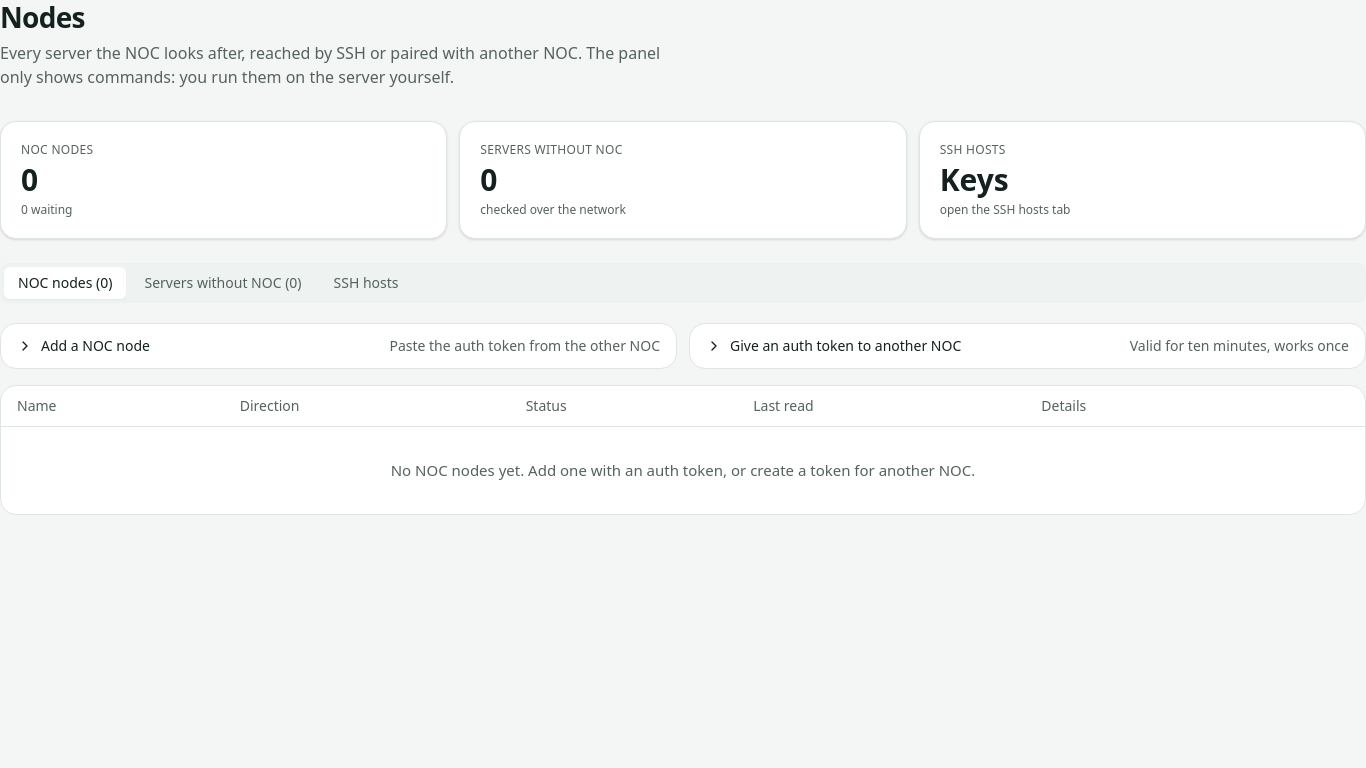
FleetPage › shows the cleanup commands after a revoke
The image size is (1366, 768).
Press the mouse on the tab "SSH hosts" at point(366, 283), box [320,267,413,299]
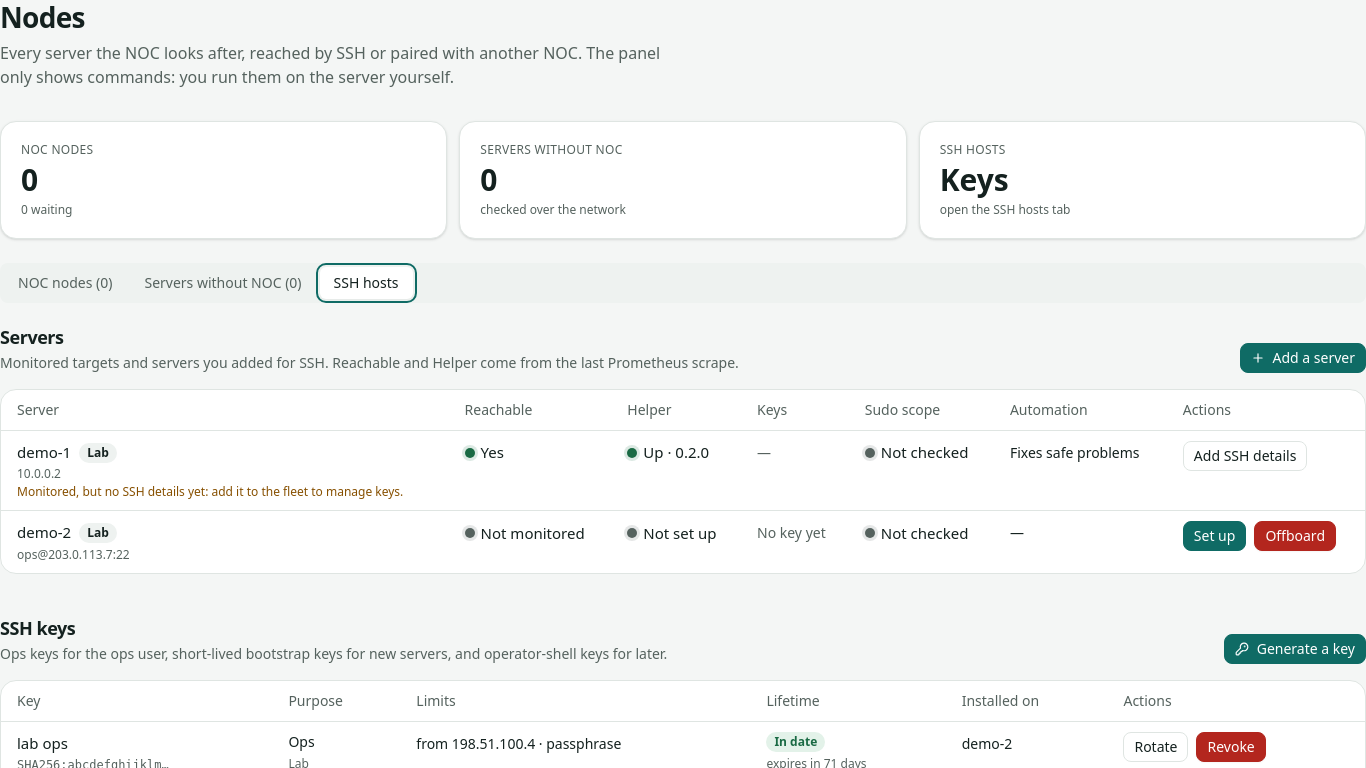
Click the button with aria-label "Revoke lab ops" at point(1231, 746), box [1196,732,1266,762]
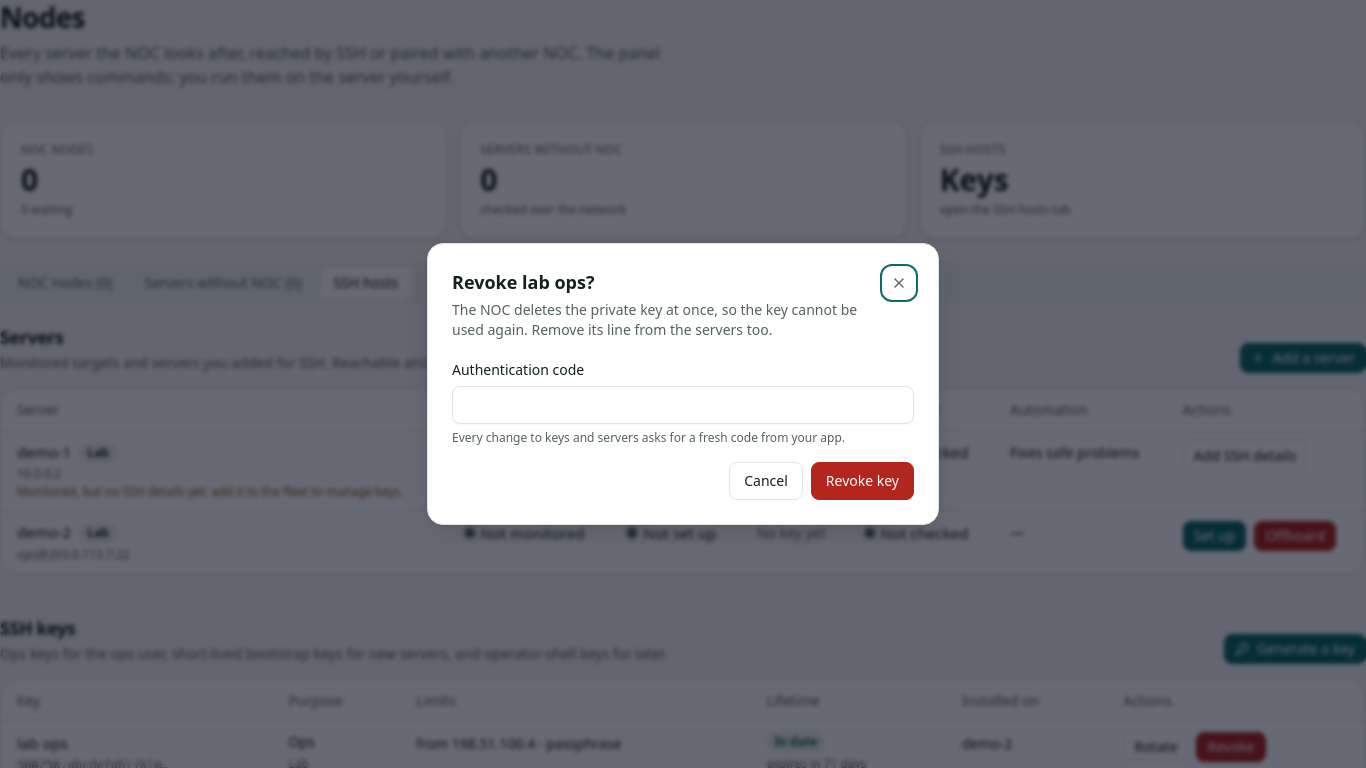
Type "654321" into the field labelled "Authentication code" at point(683, 405), box [452,386,914,424]
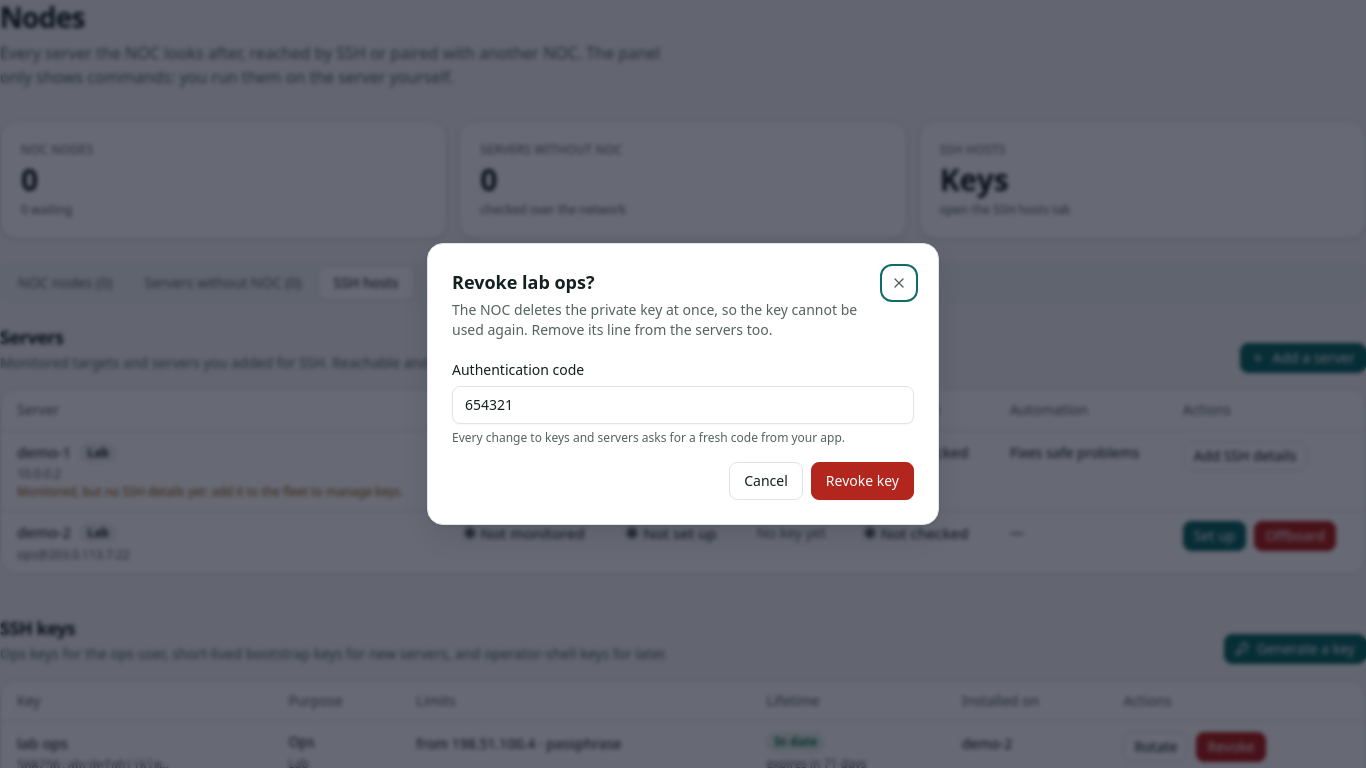
Click the button "Revoke key" at point(862, 481), box [811,462,914,500]
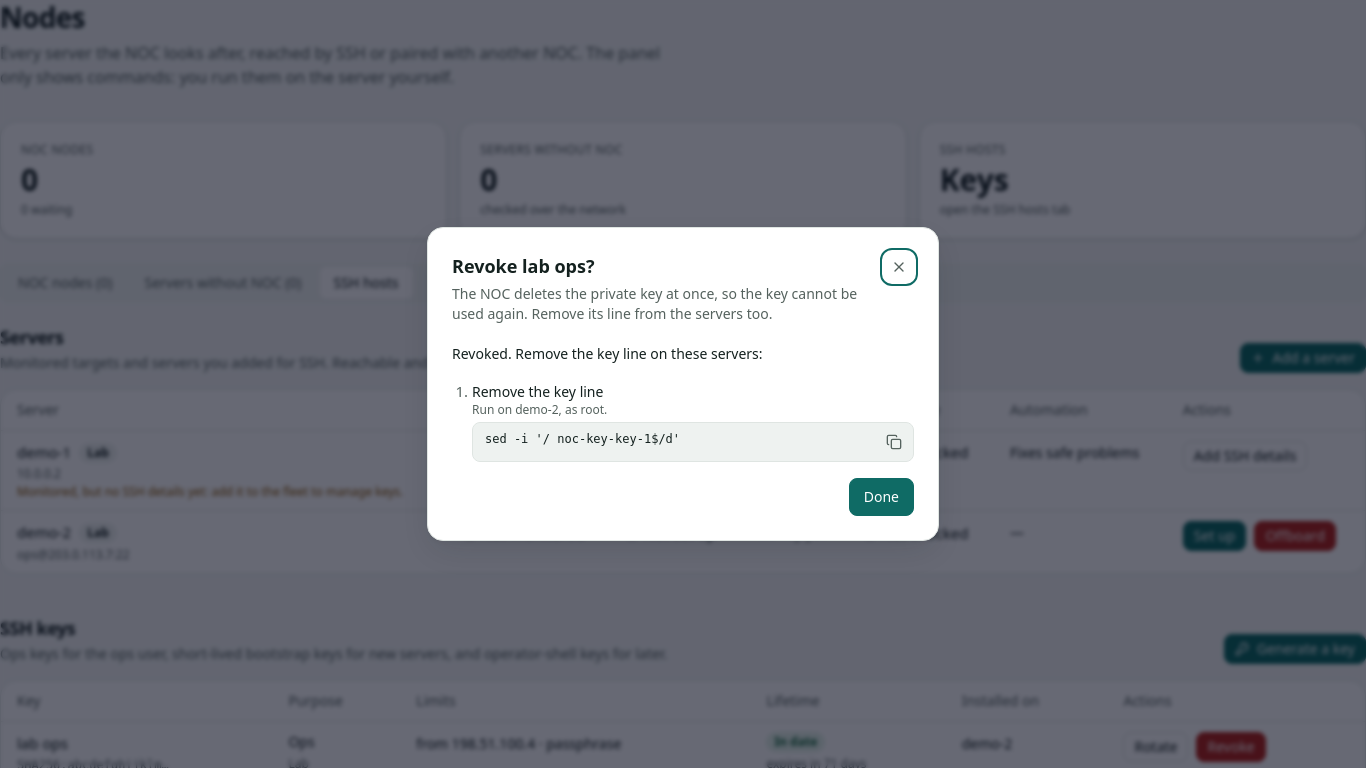
Now the text "sed -i '/ noc-key-key-1$/d'" is shown, box [485,432,680,446]
